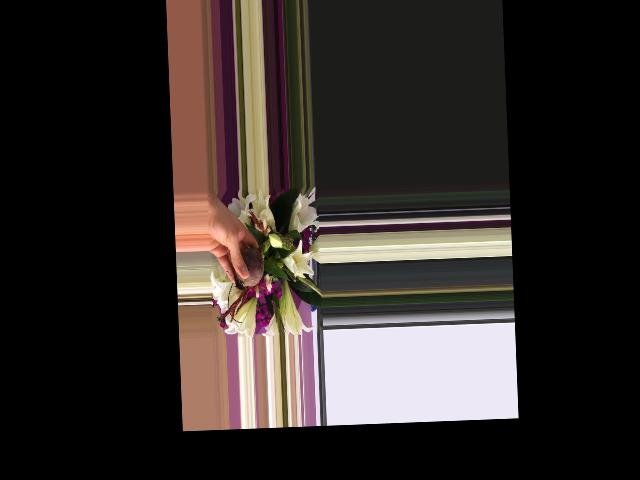beet: (232, 236, 271, 291)
